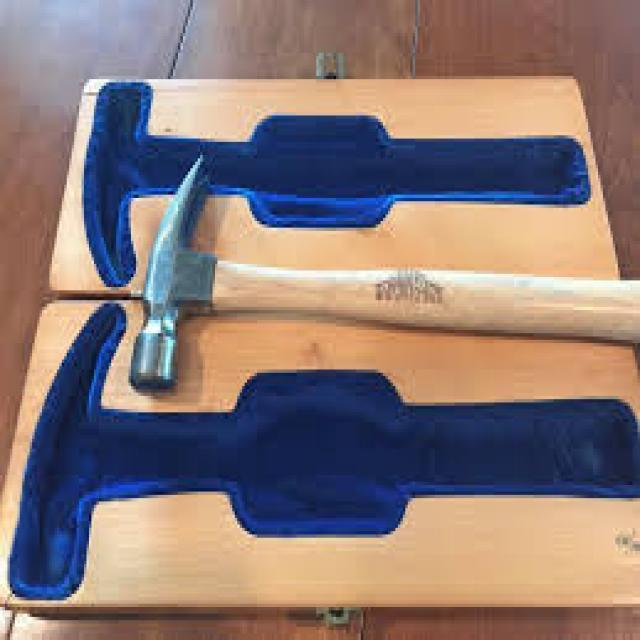hammer: (124, 147, 640, 404)
